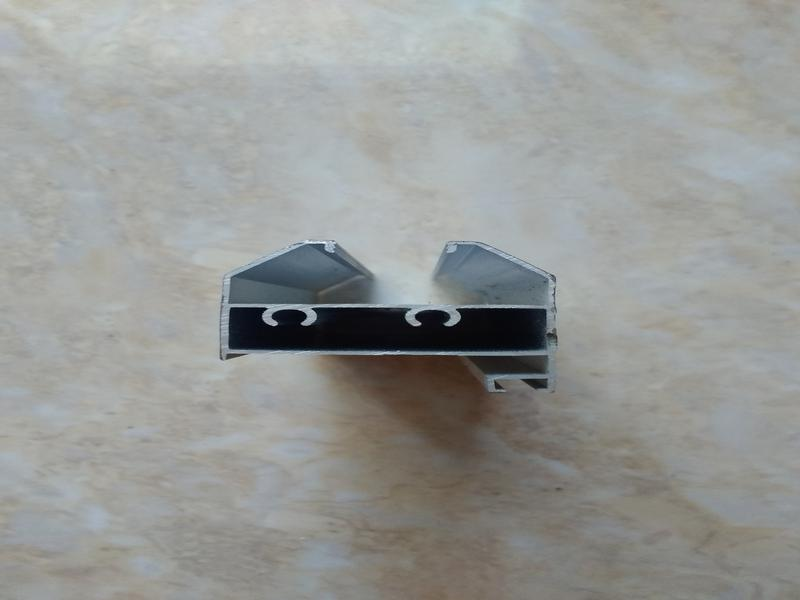Aluminium_3: (178, 190, 595, 422)
